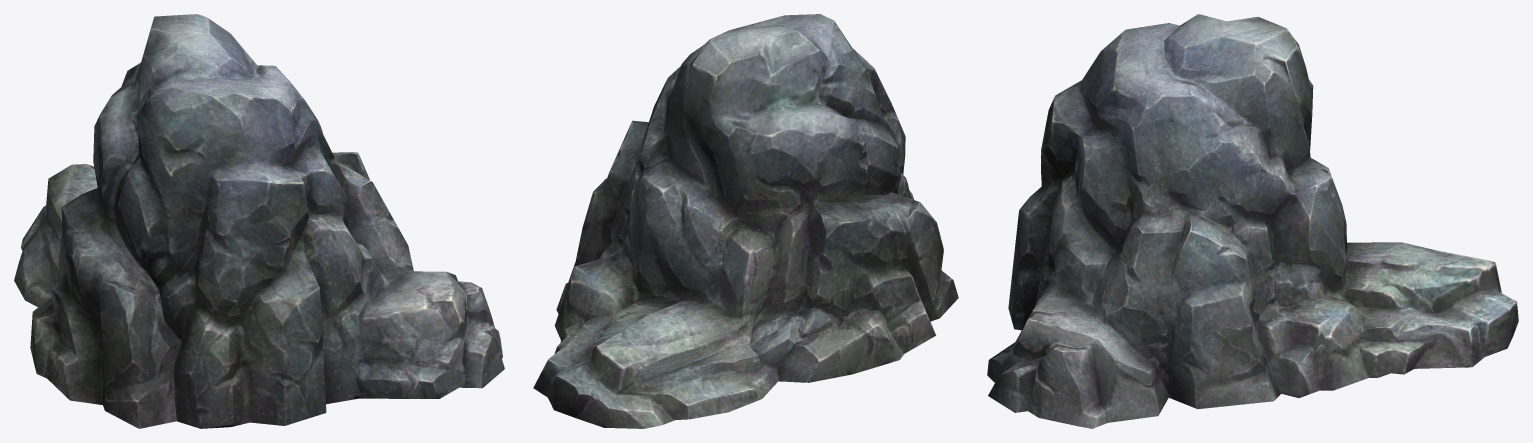
Rendered from rock_01.FBX.
3 renders of one model, left to right at view 1: azimuth 30°, elevation 25°; view 2: azimuth 150°, elevation 25°; view 3: azimuth 270°, elevation 25°, orthographic. The views are drawn at different scales.
Parts seen in each view (by area): view 1: DrawCall_0080; view 2: DrawCall_0080; view 3: DrawCall_0080.
Part boxes in pixels (x1,y1,x2,y2): DrawCall_0080: [14, 14, 504, 428]; DrawCall_0080: [533, 14, 958, 428]; DrawCall_0080: [987, 14, 1518, 428].
Bounding box in the file's own units: 69.28 × 51.32 × 84.77.
